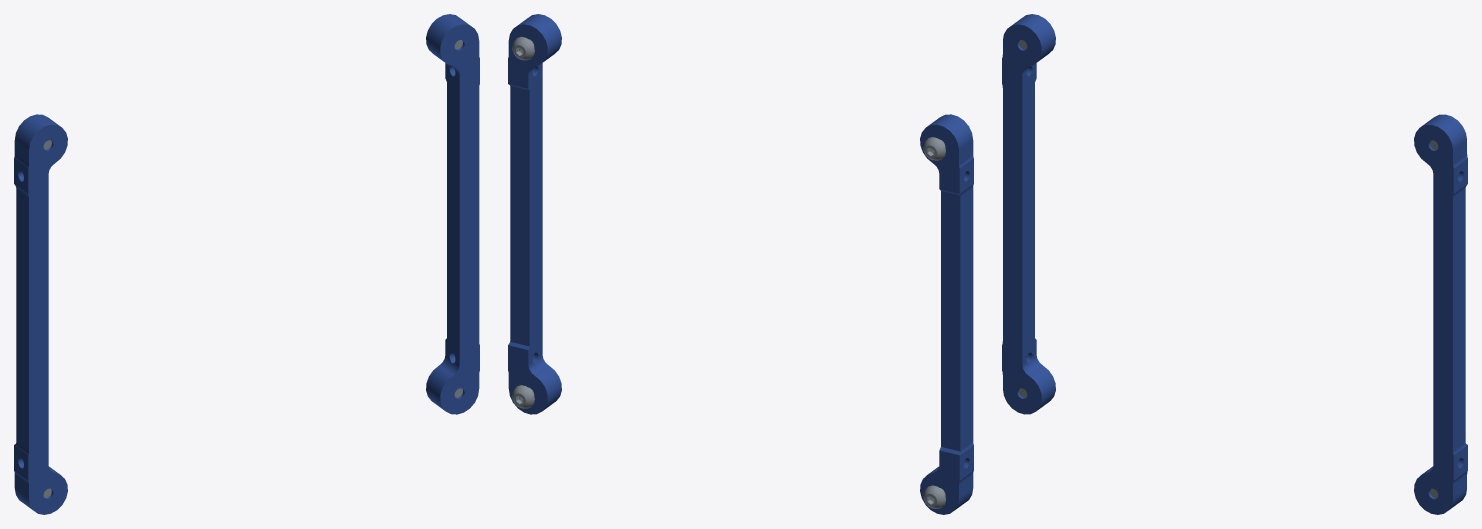
Rendered from bracket-rev2.glb.
3 views of the same model, side by side, from view 1: azimuth 30°, elevation 25°; view 2: azimuth 150°, elevation 25°; view 3: azimuth 330°, elevation 25° (orthographic).
Parts seen in each view (by area): view 1: parts; view 2: parts; view 3: parts.
Boxes of the visible parts, x1,y1,x2,y2 form: parts: (14,14,479,514); parts: (508,14,973,514); parts: (1002,14,1467,514).
Size of the model in its own units: 92.29 by 75.96 by 8.04.
